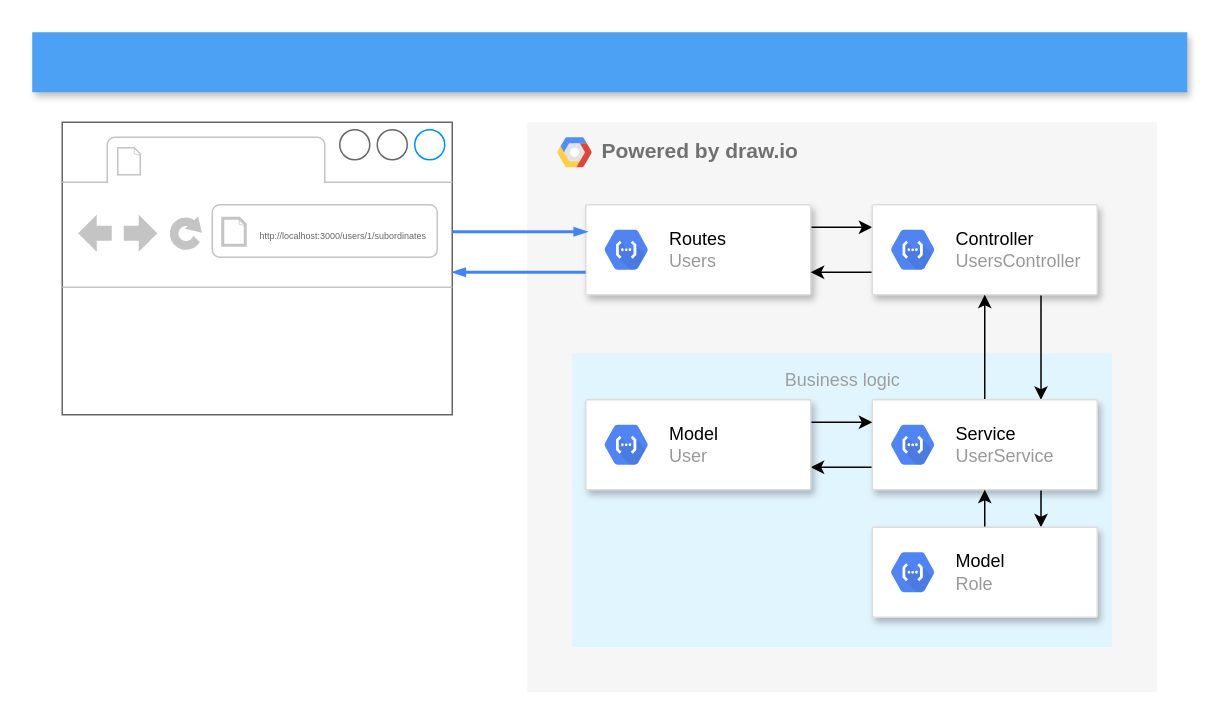
The diagram is 1221 pixels wide and 717 high, and some of its shapes have lost their labels. The centre of each missing label's shape, as x and y in pixels:
"Architecture Diagram" goes at pixel 611 64.
"localhost:3000" goes at pixel 234 159.
